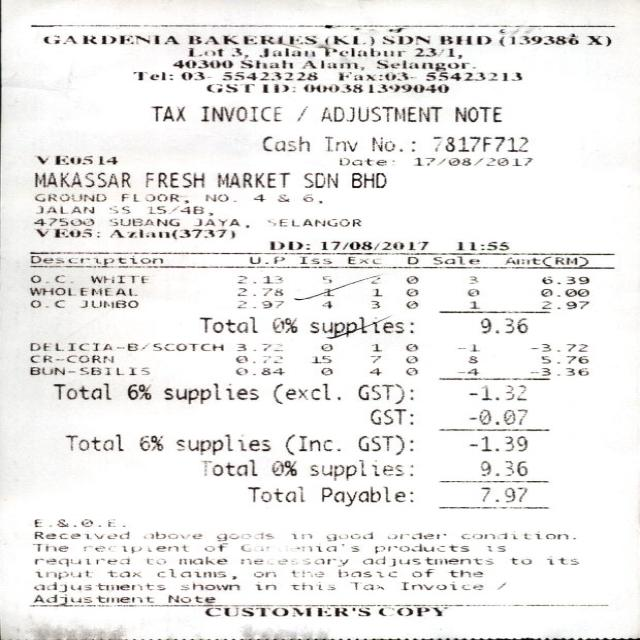text: (309, 315, 413, 337), (310, 459, 412, 480), (163, 382, 257, 404), (176, 434, 270, 454), (319, 106, 442, 121), (321, 486, 412, 505), (203, 606, 370, 615), (272, 382, 340, 404), (32, 581, 163, 592), (34, 172, 130, 187), (431, 136, 526, 151), (188, 34, 315, 45), (108, 228, 234, 239), (42, 34, 179, 44), (33, 593, 154, 604), (28, 254, 161, 264), (303, 82, 448, 91), (362, 556, 491, 566), (199, 106, 280, 121), (284, 433, 338, 455), (356, 383, 411, 404), (374, 59, 468, 71), (356, 434, 411, 454), (319, 240, 427, 250), (34, 555, 130, 566), (460, 530, 577, 539), (52, 382, 110, 400), (216, 172, 288, 186), (64, 433, 123, 450), (28, 287, 136, 296), (27, 366, 148, 374), (198, 316, 258, 332), (466, 408, 526, 424), (372, 543, 468, 553), (414, 157, 532, 165), (239, 543, 357, 551), (27, 342, 143, 350), (246, 486, 304, 502), (497, 34, 577, 45), (144, 172, 202, 187), (468, 435, 526, 450), (239, 558, 347, 566), (156, 568, 234, 579), (222, 71, 317, 80), (203, 459, 256, 475), (504, 256, 588, 266), (468, 385, 523, 400), (82, 544, 185, 552), (322, 46, 404, 56), (34, 154, 116, 164), (33, 518, 124, 527), (426, 72, 520, 80), (266, 218, 360, 226), (33, 530, 127, 538), (453, 106, 499, 122), (479, 486, 525, 502), (260, 135, 309, 150), (480, 460, 527, 475), (148, 204, 212, 215), (367, 408, 411, 424), (479, 317, 525, 332), (336, 71, 412, 80), (119, 193, 187, 203), (27, 354, 111, 362), (401, 582, 481, 590), (372, 136, 414, 151), (378, 606, 447, 615), (302, 60, 364, 70), (259, 45, 314, 56), (349, 172, 386, 188), (34, 569, 91, 579), (34, 193, 104, 201), (152, 342, 222, 350), (323, 34, 373, 45), (172, 59, 232, 68), (150, 105, 183, 121), (88, 274, 146, 283), (530, 367, 588, 376), (144, 530, 202, 539), (456, 240, 508, 250), (302, 172, 334, 188), (34, 228, 98, 236), (339, 157, 394, 166), (194, 218, 249, 227), (108, 218, 178, 225), (166, 593, 215, 603), (381, 34, 429, 44), (412, 47, 460, 57), (324, 136, 356, 151), (240, 59, 293, 68), (77, 300, 136, 308), (214, 532, 272, 540), (338, 568, 396, 576), (180, 582, 238, 590), (531, 343, 586, 351), (205, 82, 253, 91), (235, 274, 283, 283), (540, 275, 588, 284), (235, 287, 283, 296), (235, 299, 283, 308), (234, 354, 282, 363), (178, 555, 226, 564), (439, 34, 481, 44), (270, 316, 296, 332), (270, 459, 296, 475), (33, 217, 92, 224), (267, 240, 308, 250), (34, 206, 91, 213), (125, 384, 151, 399), (540, 288, 588, 296), (540, 300, 588, 308), (235, 342, 283, 350), (235, 367, 283, 375), (432, 256, 479, 264), (325, 532, 372, 540), (541, 355, 587, 363), (139, 434, 162, 450), (386, 532, 445, 538), (132, 71, 171, 80), (188, 46, 223, 56), (29, 274, 64, 283), (289, 582, 333, 589), (345, 255, 379, 264), (248, 255, 284, 263), (31, 543, 67, 551), (29, 300, 64, 308), (448, 569, 482, 577), (180, 71, 210, 80), (585, 34, 609, 45), (261, 84, 294, 92), (300, 256, 332, 264), (546, 556, 578, 564), (350, 582, 383, 589), (301, 192, 321, 203), (202, 542, 226, 551), (204, 194, 234, 201), (455, 343, 479, 351), (455, 368, 479, 376), (291, 570, 323, 576), (108, 570, 140, 576), (411, 568, 432, 577), (296, 105, 307, 121), (310, 354, 329, 363), (230, 47, 247, 57), (145, 556, 166, 564), (509, 556, 529, 564), (108, 205, 129, 212), (255, 583, 275, 590), (319, 342, 332, 351), (405, 342, 418, 351), (485, 545, 504, 551), (465, 288, 478, 296), (290, 533, 310, 538), (277, 193, 288, 201), (407, 256, 418, 264), (369, 275, 380, 283), (406, 275, 417, 283), (406, 287, 417, 295), (321, 300, 332, 308), (406, 300, 417, 308), (370, 343, 381, 351), (406, 355, 417, 363), (320, 367, 331, 375), (251, 572, 273, 576), (367, 367, 379, 374), (320, 275, 330, 283), (321, 288, 331, 296), (368, 300, 378, 308), (252, 194, 263, 201), (406, 367, 417, 374), (371, 287, 380, 295), (470, 300, 479, 308), (467, 355, 476, 363), (469, 275, 477, 283), (370, 355, 379, 362), (496, 582, 506, 588)
